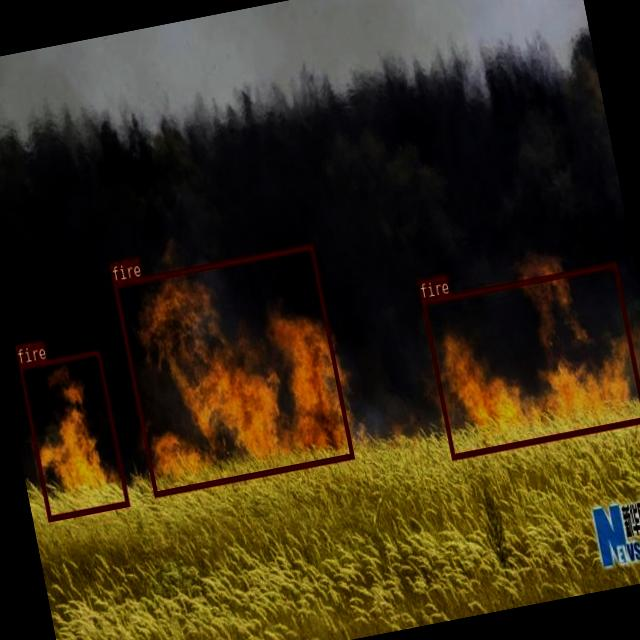fire: (112, 244, 354, 496), (421, 261, 640, 459), (18, 348, 129, 520)
